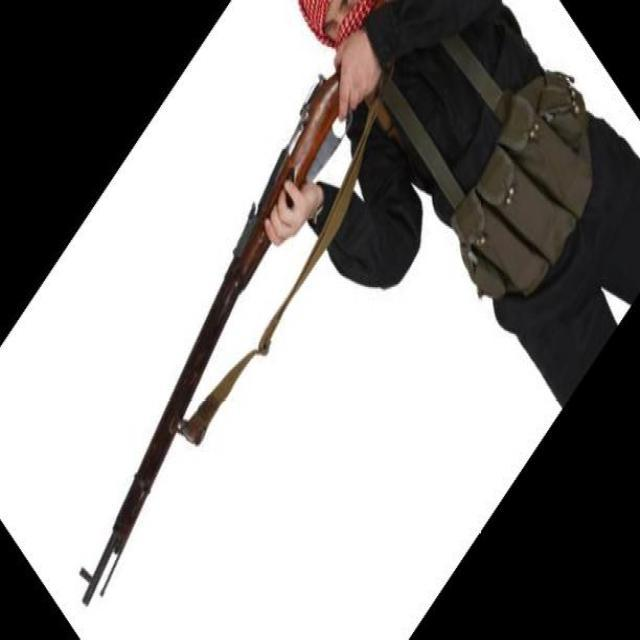weapon: (79, 0, 381, 609)
